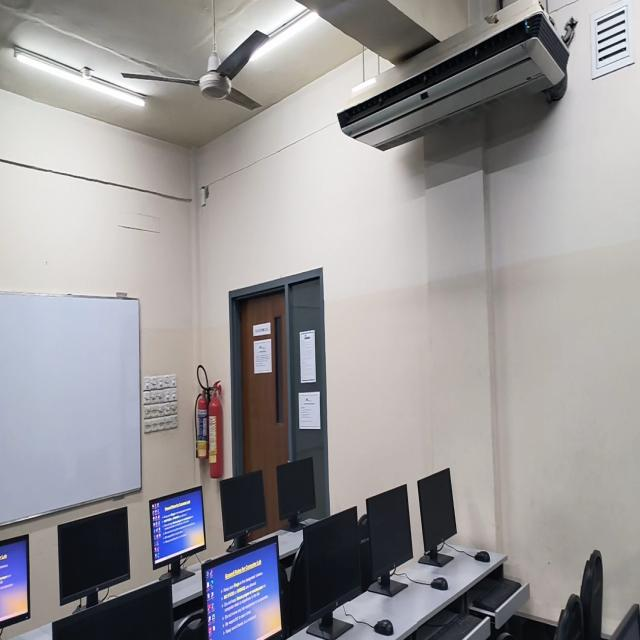Ac: (338, 0, 573, 151)
Chair: (554, 551, 603, 639), (288, 541, 312, 636), (554, 594, 584, 639), (175, 612, 207, 639)
Fire Extinguisher: (208, 388, 223, 478), (196, 394, 208, 459)
Keyboard: (418, 600, 483, 639), (472, 578, 521, 613)
Light: (14, 46, 146, 107), (249, 10, 319, 61)
Monitor: (203, 540, 282, 639), (303, 508, 361, 639), (58, 507, 130, 607), (52, 580, 174, 639), (151, 486, 206, 569), (366, 484, 413, 579), (219, 471, 266, 546), (417, 468, 457, 551), (0, 536, 30, 635), (277, 457, 316, 524)
Mouse: (375, 619, 393, 635), (430, 577, 448, 590), (474, 551, 490, 562)
